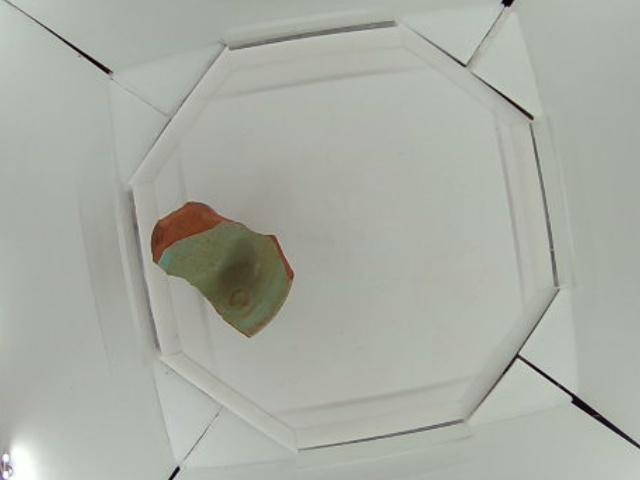China: (150, 198, 291, 339)
